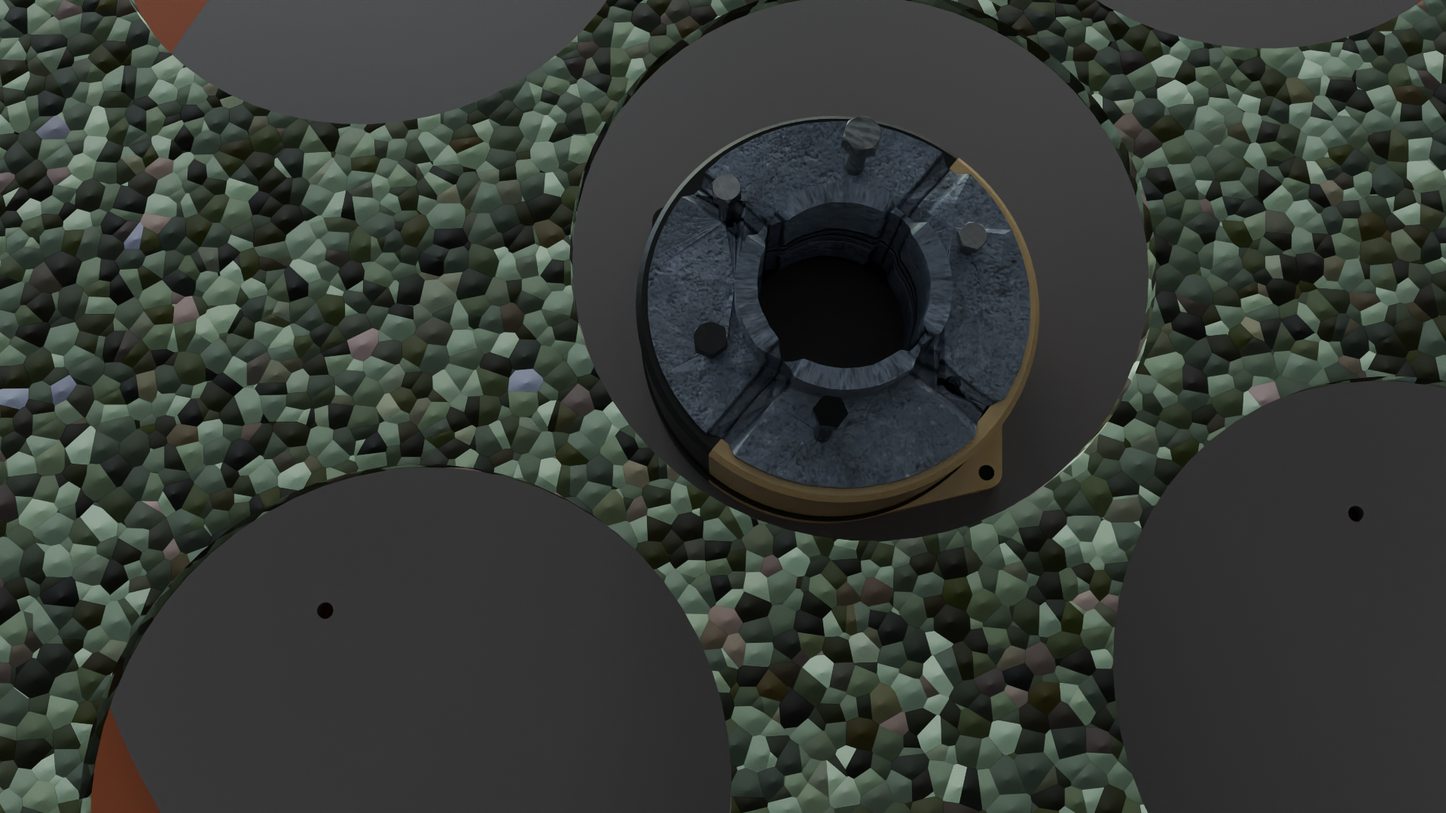bolt: (842, 117, 883, 153), (693, 321, 727, 355), (813, 395, 848, 428), (712, 174, 741, 203), (958, 221, 988, 249)
